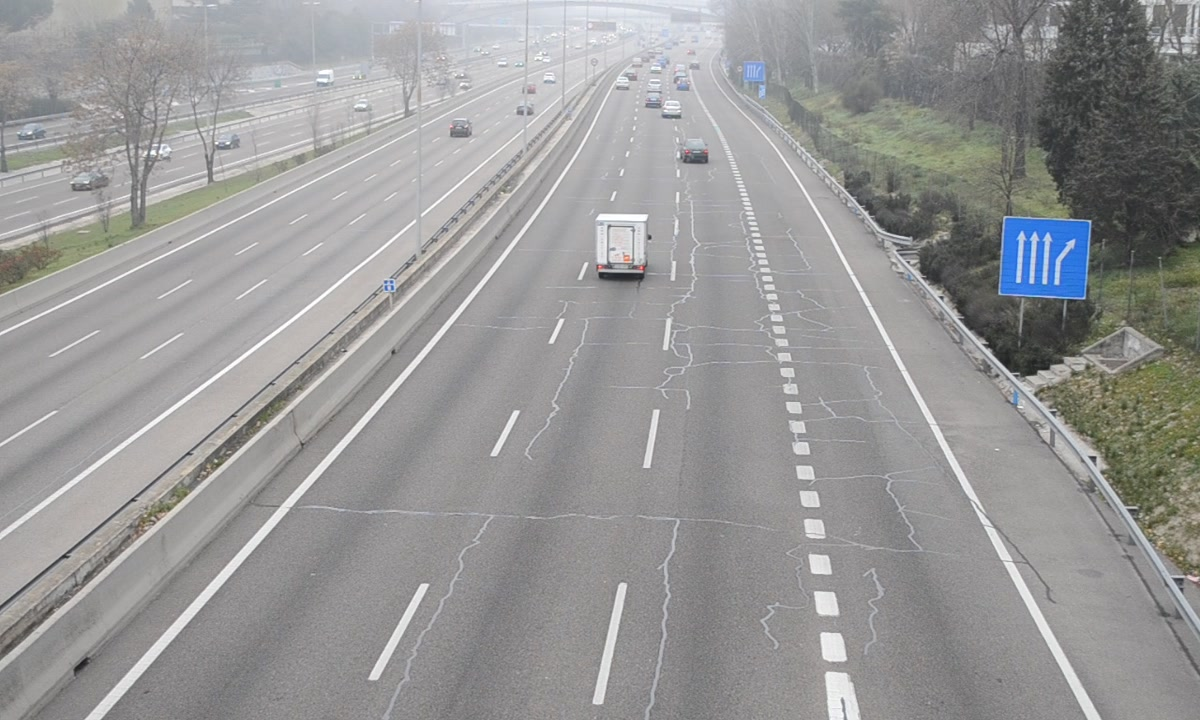car: (679, 135, 709, 164)
small-truck: (593, 212, 648, 274)
